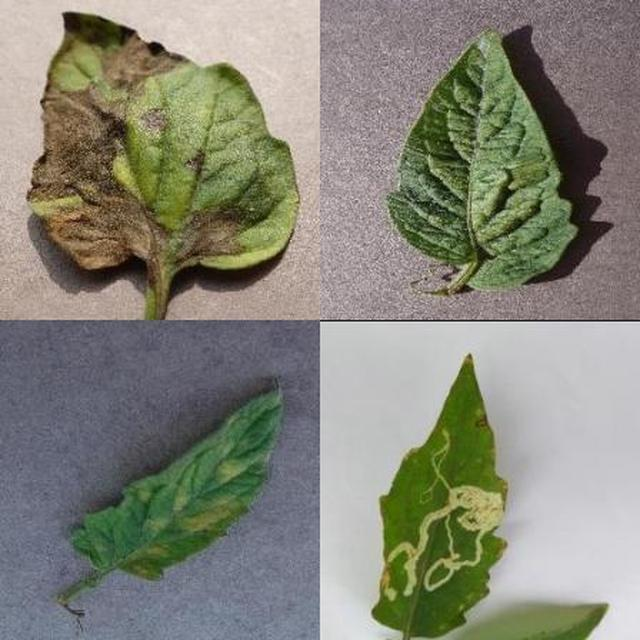Late Blight Leaf: (202, 201, 640, 640)
